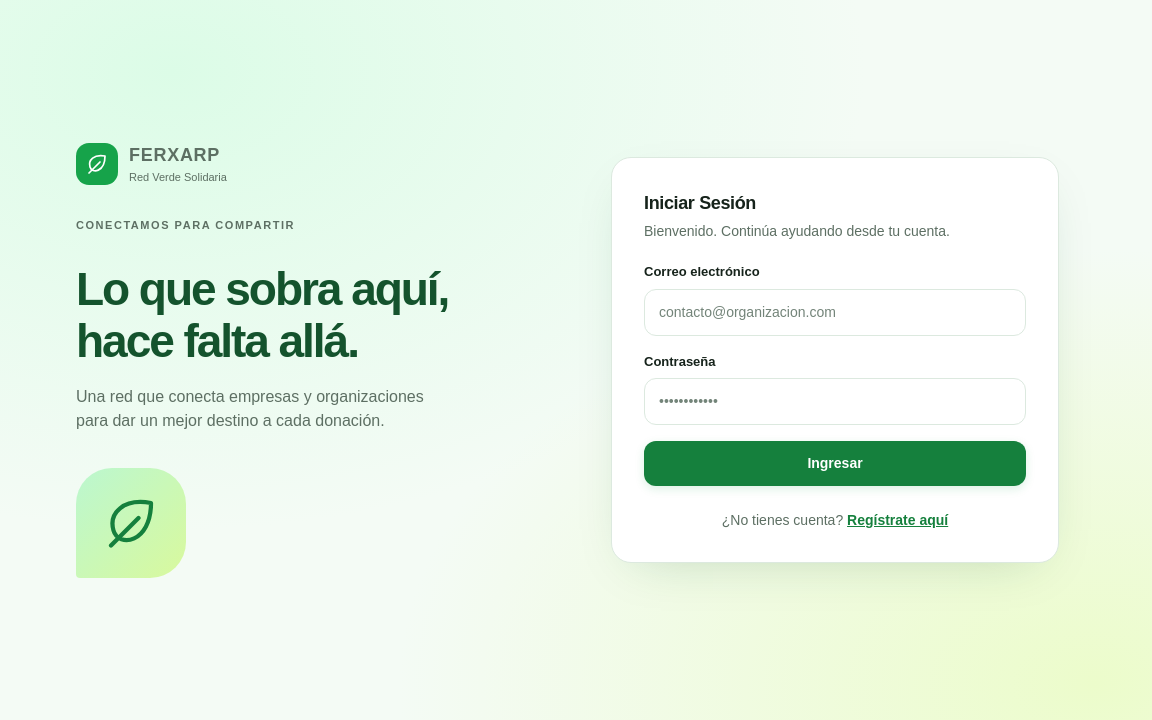
it: JEST-AUTH-02 login inválido no guarda token y muestra error seguro
Type "empresa@test.mx" into the field labelled "Correo electrónico" at [835, 312], box [644, 288, 1026, 336]
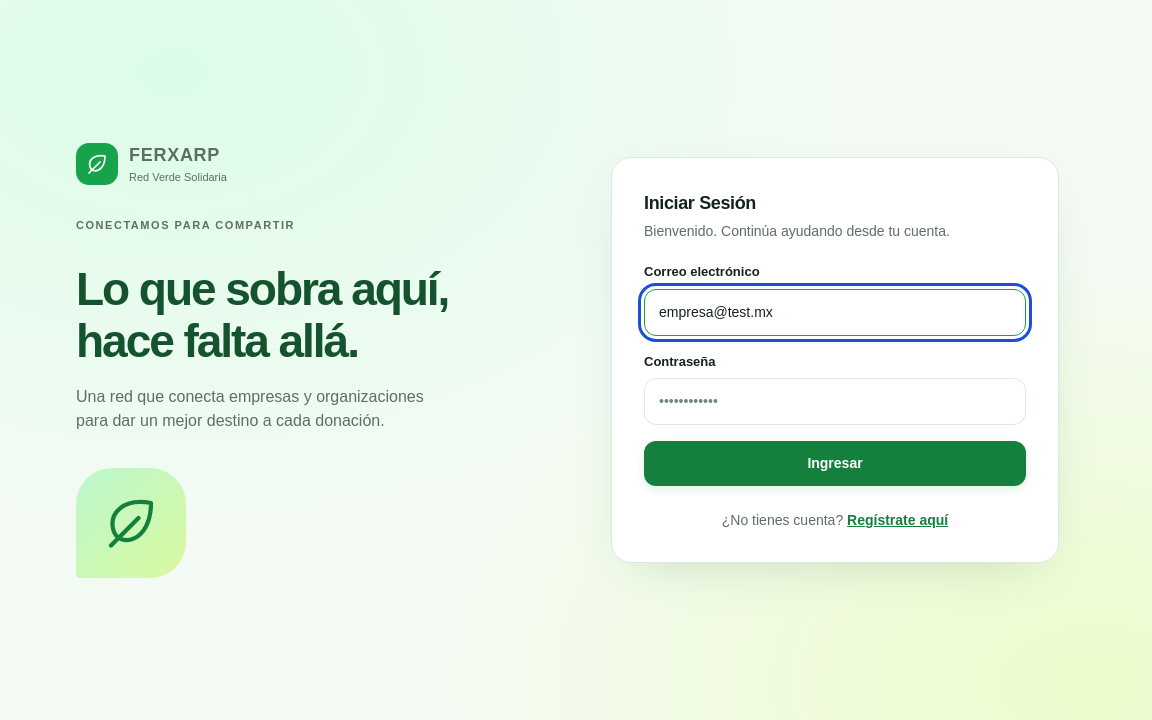
Type "incorrecta" into the password field labelled "Contraseña" at [835, 402], box [644, 378, 1026, 425]
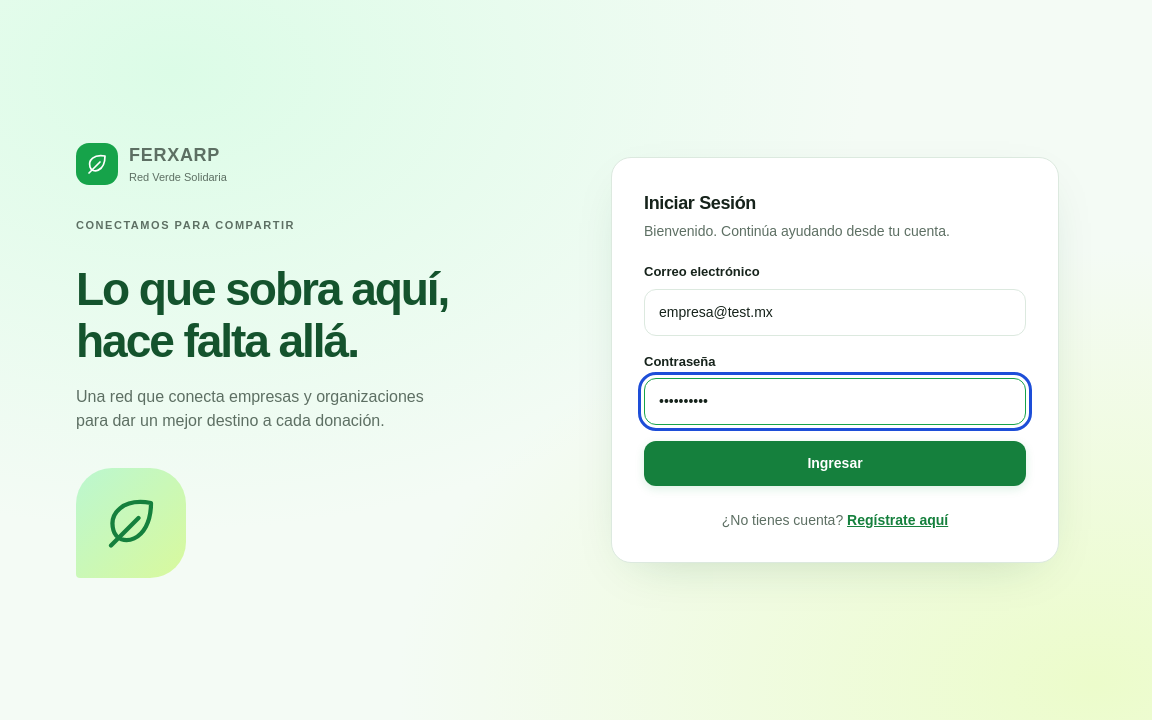
Click the button "Ingresar" at [835, 464], box [644, 441, 1026, 486]
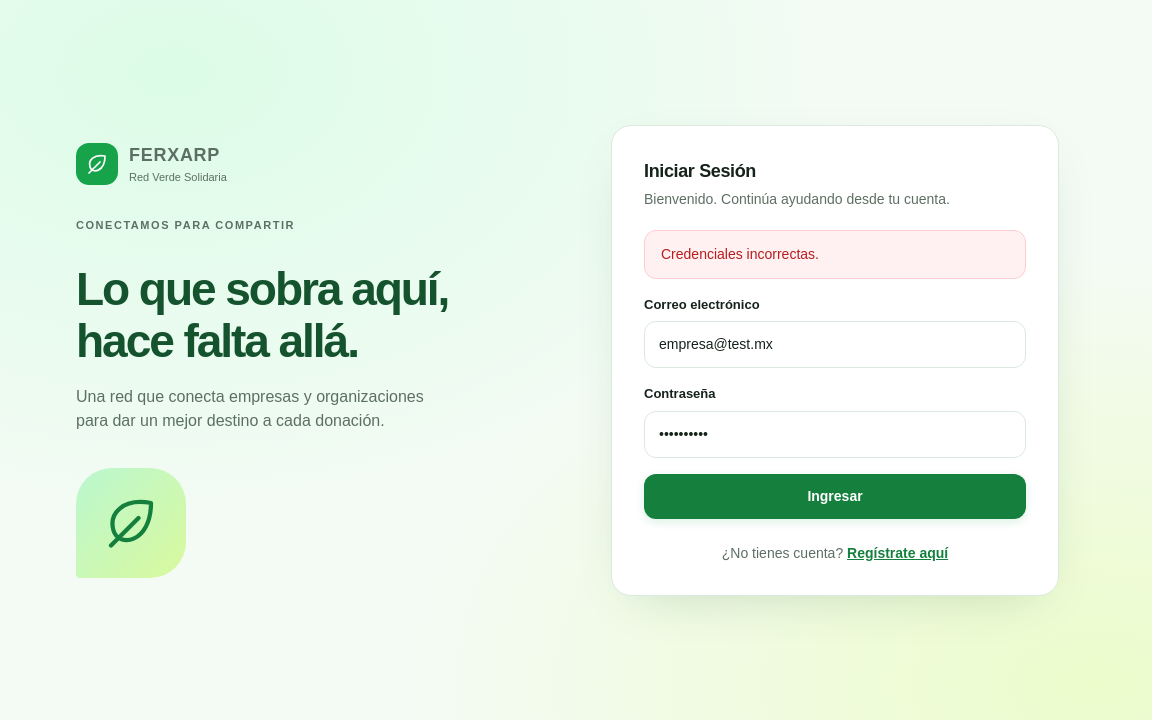
Expected: the text "Credenciales incorrectas." is shown, [644, 230, 1026, 278]
